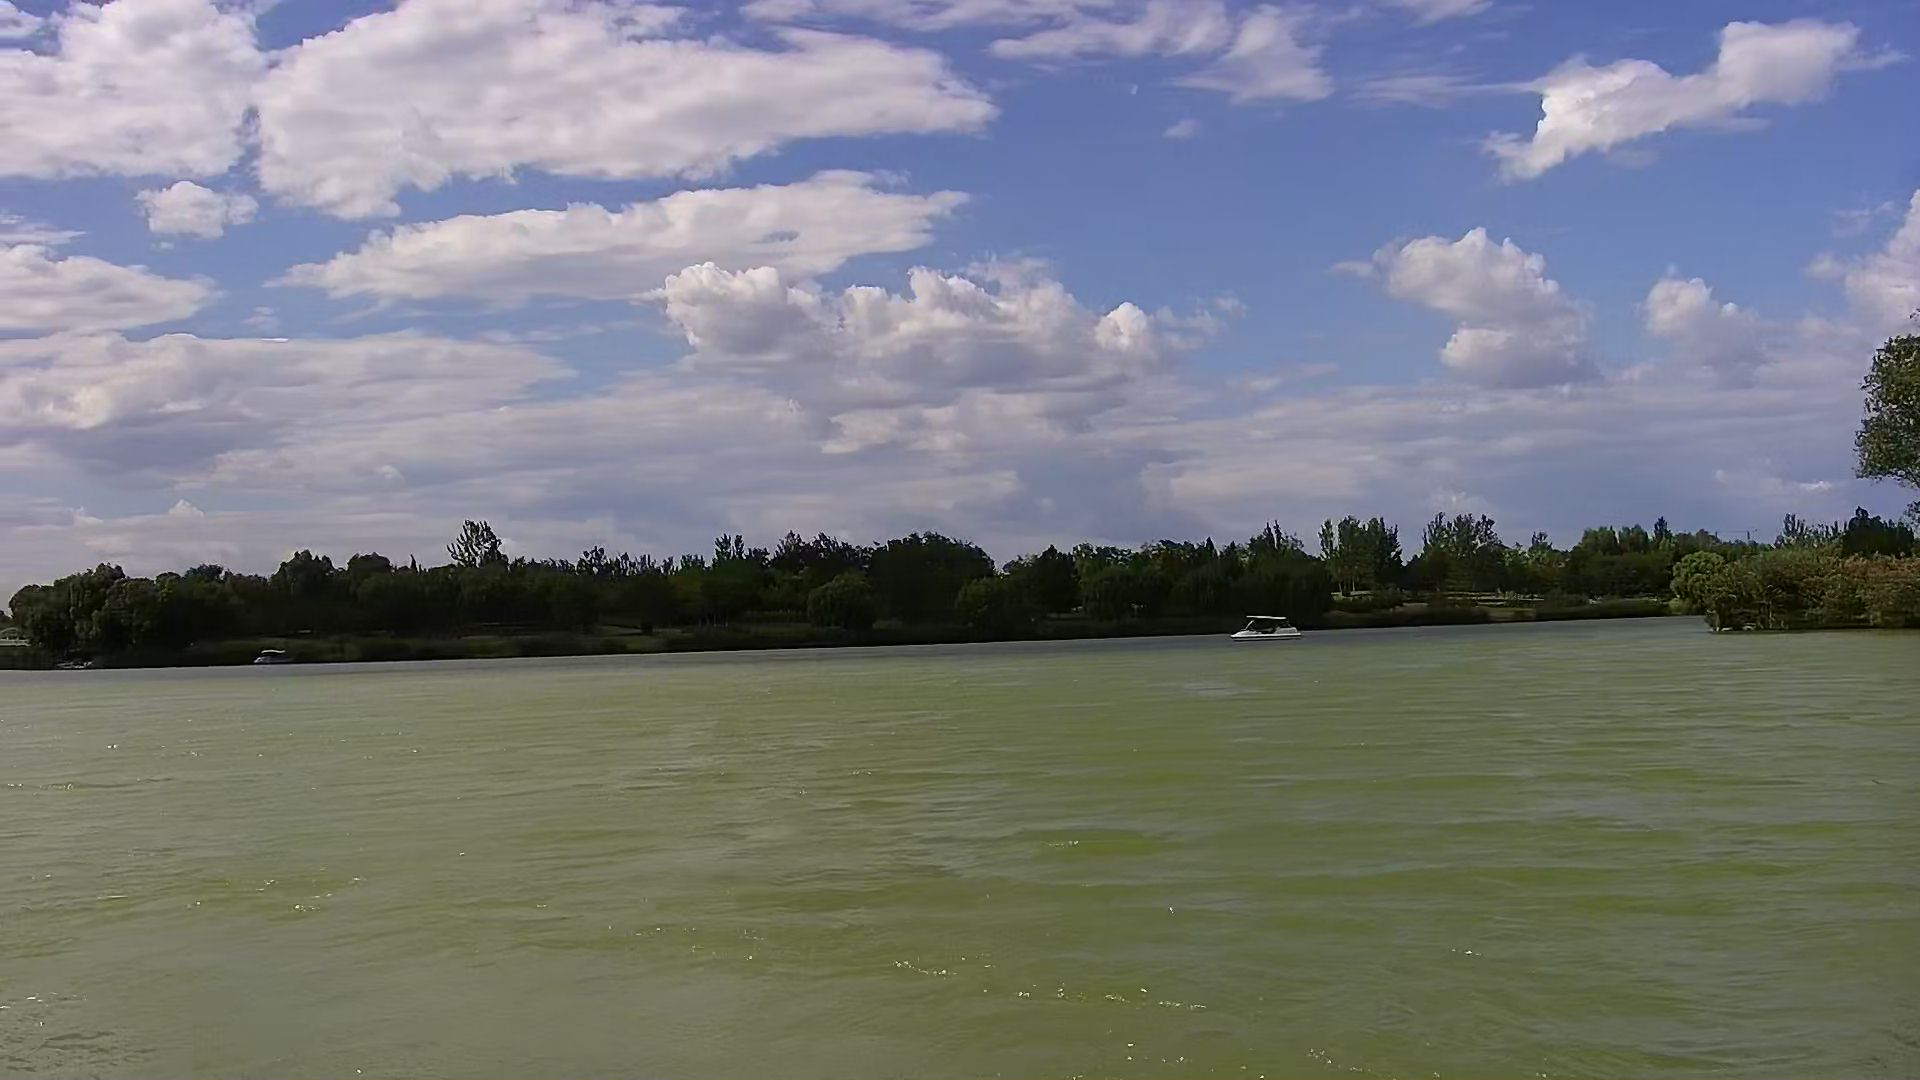boat: (1222, 611, 1312, 644), (247, 644, 299, 669)
